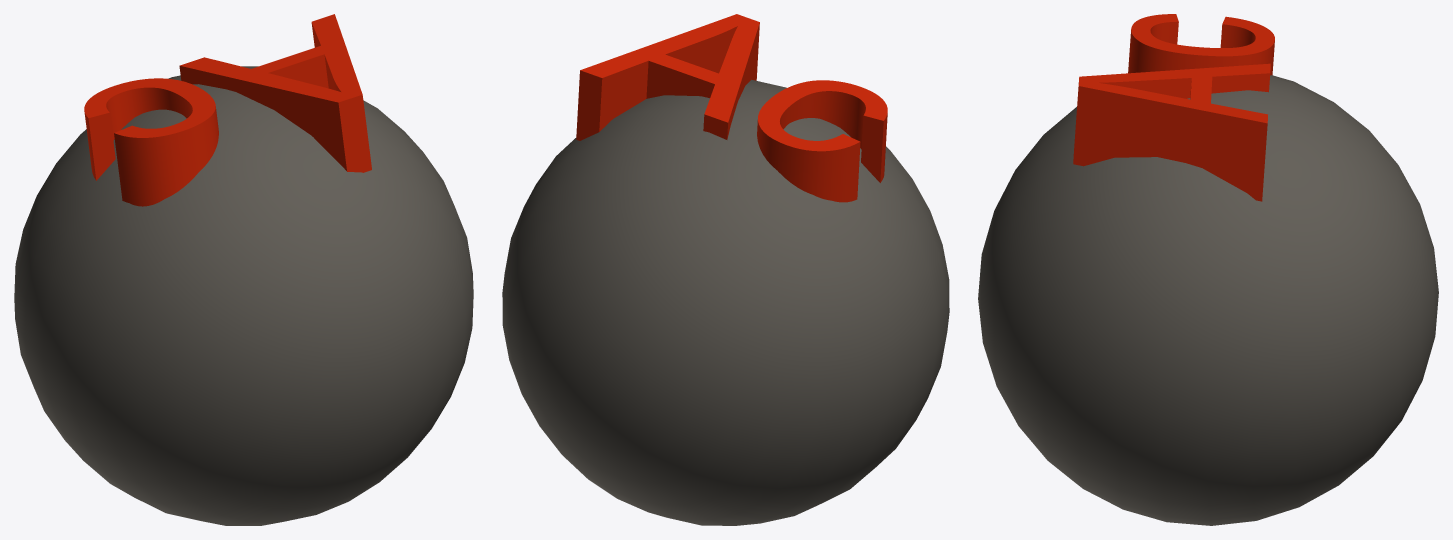
3 views of the same model, side by side, from view 1: azimuth 30°, elevation 25°; view 2: azimuth 150°, elevation 25°; view 3: azimuth 270°, elevation 25° (orthographic). The views are drawn at different scales.
Visible parts, largest first — view 1: Ac; view 2: Ac; view 3: Ac.
Boxes of the visible parts, x1,y1,x2,y2 form: Ac: [14, 14, 473, 525]; Ac: [502, 14, 949, 525]; Ac: [978, 14, 1438, 525].
Bounding box in the file's own units: 38.64 × 41.18 × 38.74.
